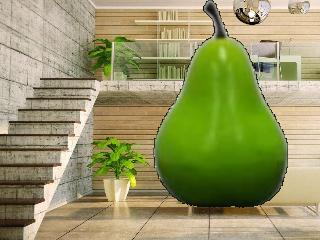pear: (149, 0, 293, 211)
